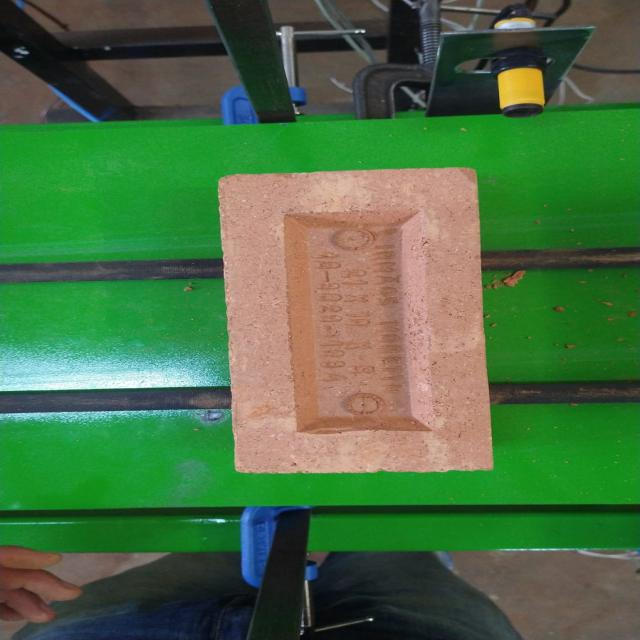bricks: (217, 168, 497, 475)
